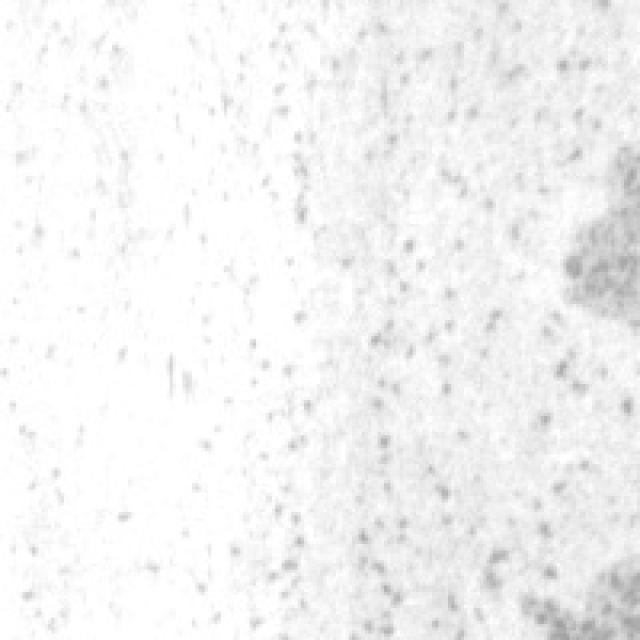pitted_surface: (189, 16, 630, 630), (3, 3, 157, 618)
